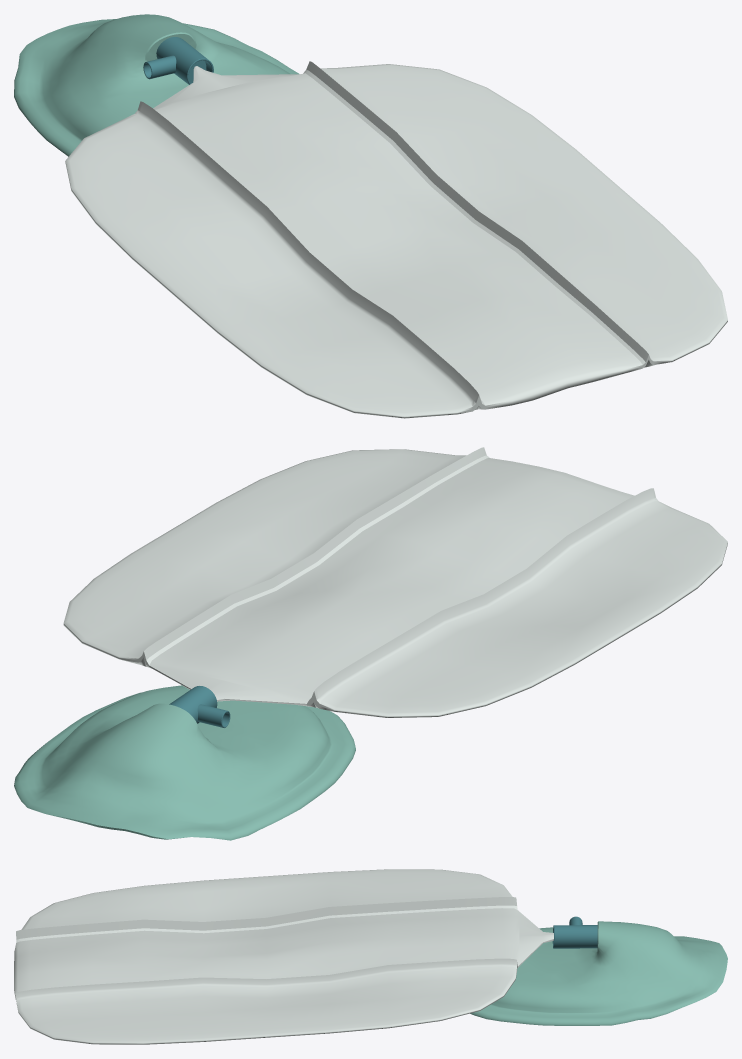
The model's file is breathing_mask.fbx.
The picture shows the model from 3 angles, top to bottom: view 1: azimuth 30°, elevation 25°; view 2: azimuth 150°, elevation 25°; view 3: azimuth 270°, elevation 25°; orthographic projection. The views are drawn at different scales.
Visible parts, largest first — view 1: breathingmask_combined_mesh_result; view 2: breathingmask_combined_mesh_result; view 3: breathingmask_combined_mesh_result.
Part boxes in pixels (box(x1,y1,x2,y2)): breathingmask_combined_mesh_result: box(14, 14, 727, 418); breathingmask_combined_mesh_result: box(14, 447, 727, 840); breathingmask_combined_mesh_result: box(14, 869, 727, 1044).
Bounding box in the file's own units: 9.62 × 1.55 × 18.17.
Materials: 3 (3 with a texture image).
